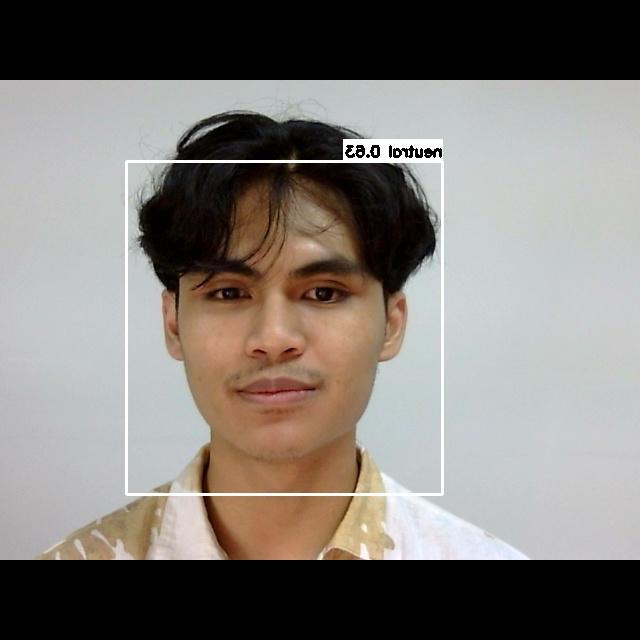Natural: (159, 230, 424, 474)
